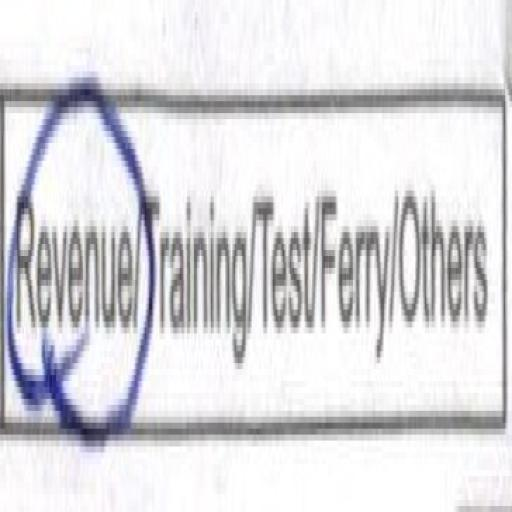check: (1, 33, 142, 428)
